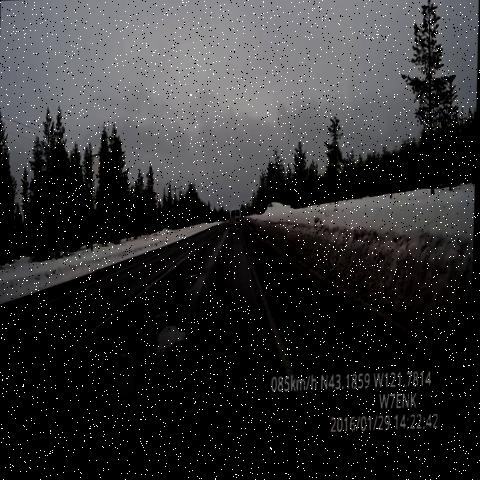pothole: (107, 293, 196, 411), (176, 260, 208, 294)
